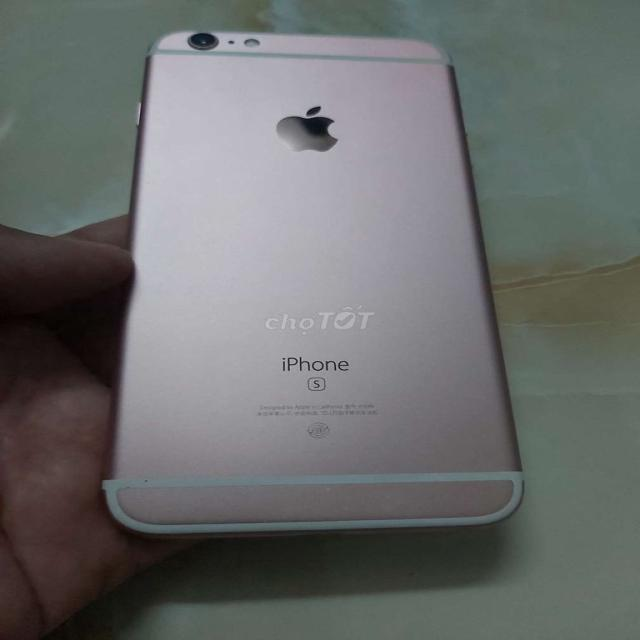gen_6: (103, 13, 539, 540)
